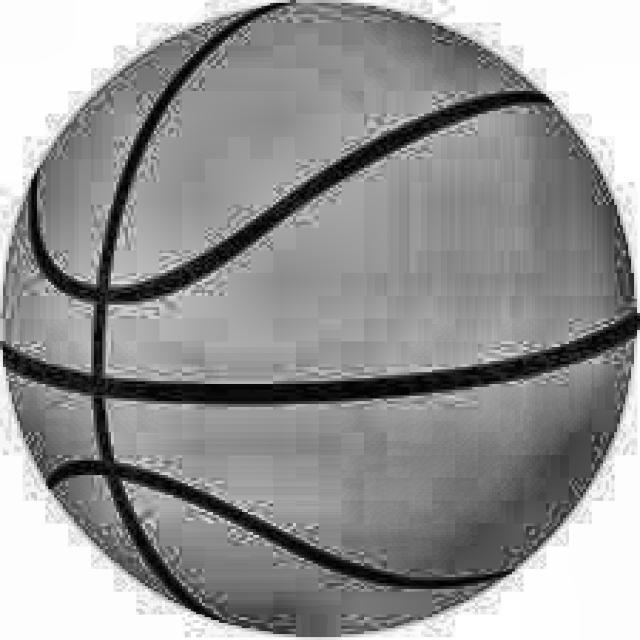Basketball: (3, 3, 637, 636)
